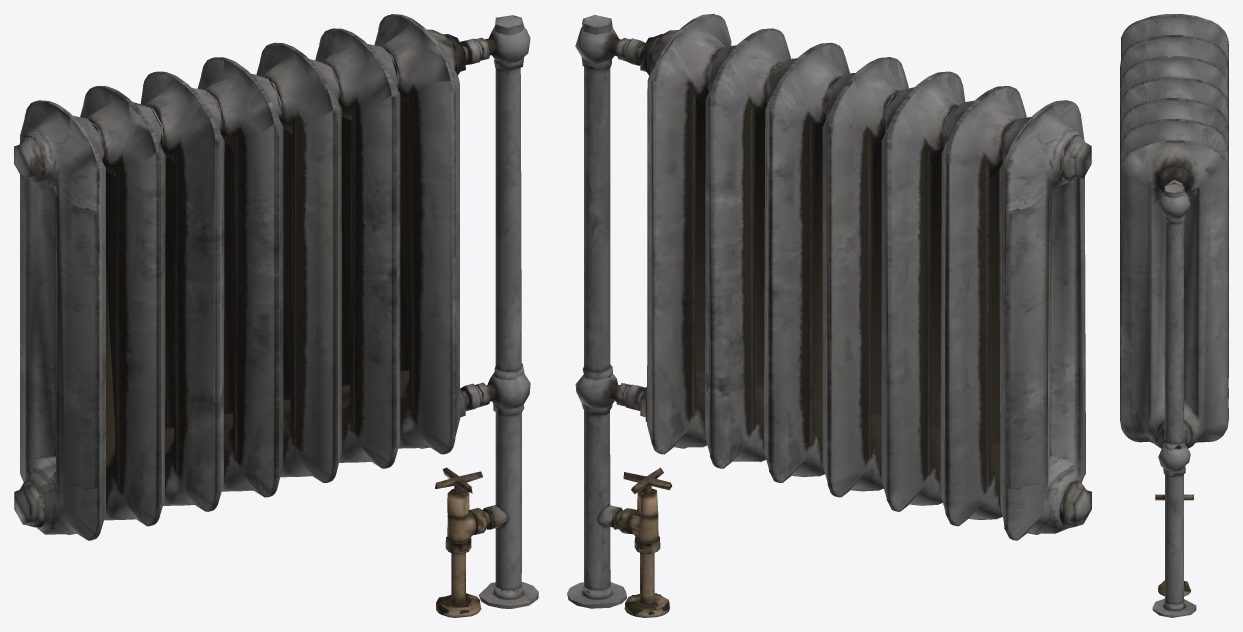
Rendered from radiator.glb.
The picture shows the model from 3 angles, left to right: view 1: azimuth 30°, elevation 25°; view 2: azimuth 150°, elevation 25°; view 3: azimuth 270°, elevation 25°; orthographic projection. The views are drawn at different scales.
Visible parts, largest first — view 1: scene__0; view 2: scene__0; view 3: scene__0.
Part boxes in pixels (x1,y1,x2,y2): scene__0: [14, 14, 538, 617]; scene__0: [567, 14, 1091, 617]; scene__0: [1120, 14, 1228, 617].
Bounding box in the file's own units: 71.37 × 79.26 × 17.96.
1 material, 1 textured.
